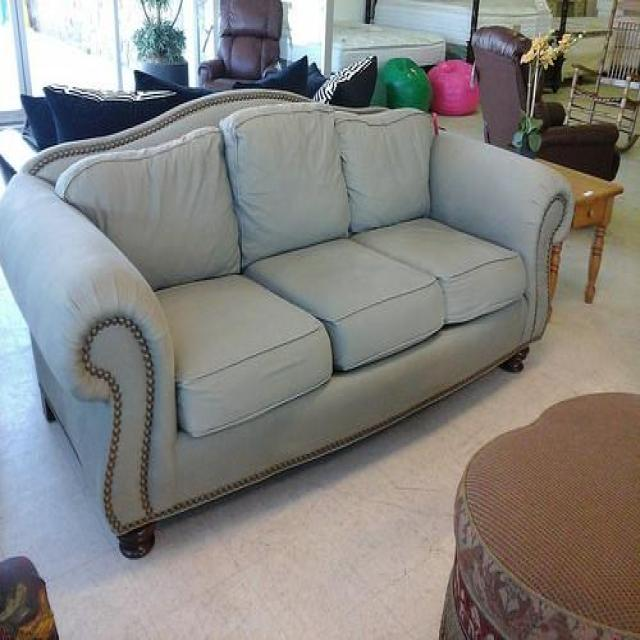sofa: (0, 85, 576, 560)
